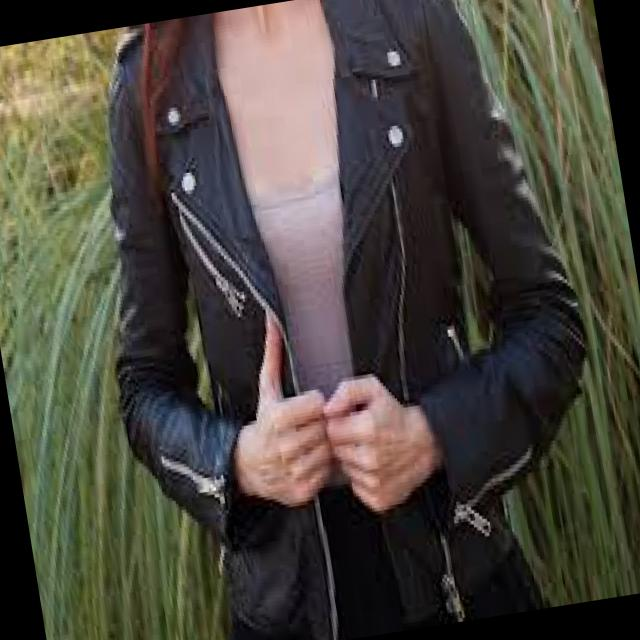Jacket: (60, 0, 627, 640)
